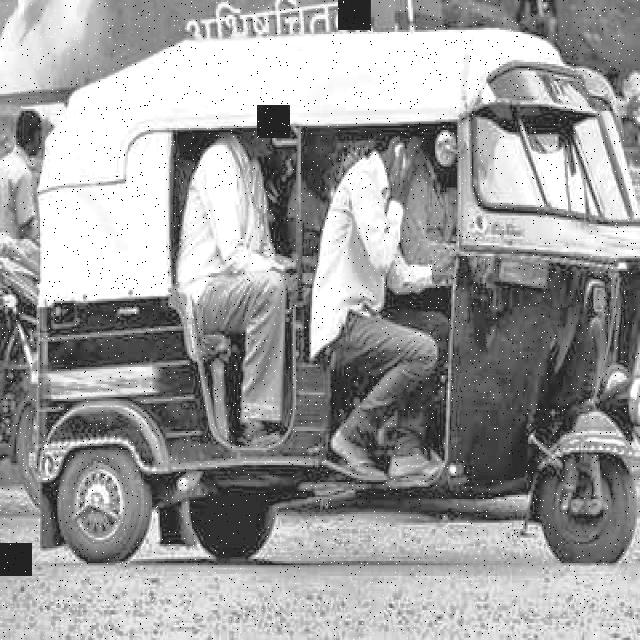Auto-Rickshaw: (22, 54, 640, 566)
